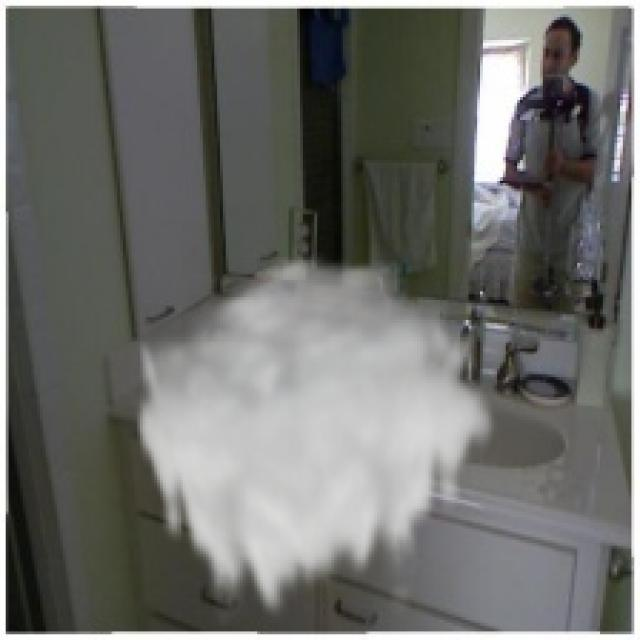smoke: (131, 248, 500, 628)
